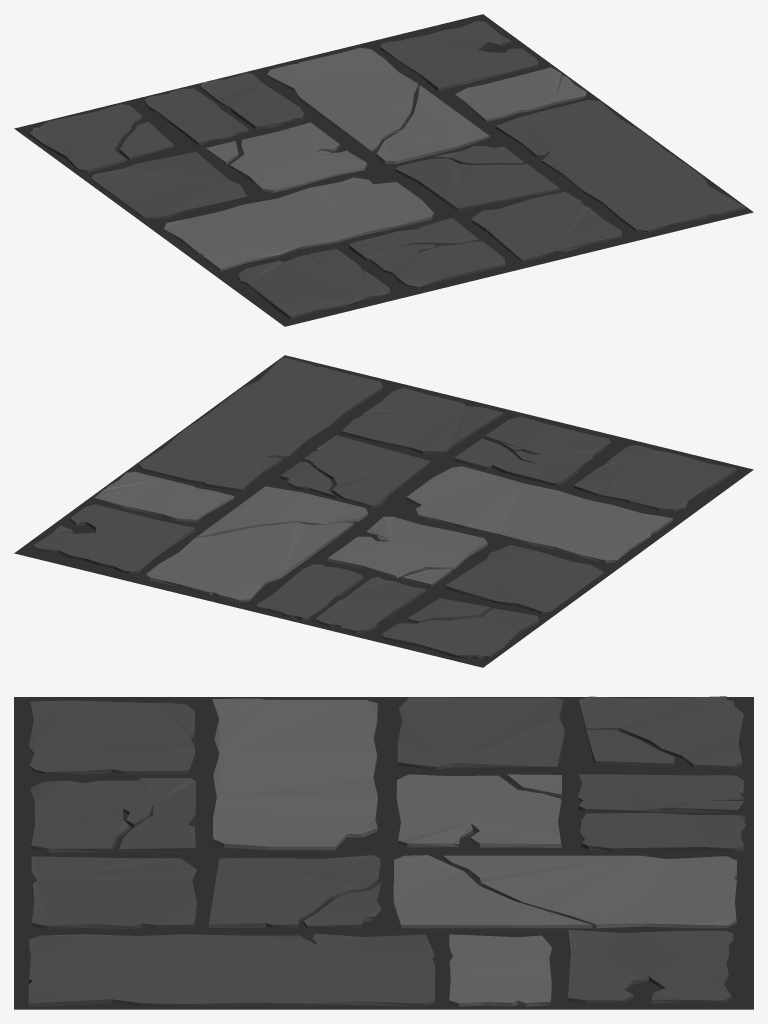
File: FloorSquare_01.glb
3 renders of one model, top to bottom at view 1: azimuth 30°, elevation 25°; view 2: azimuth 150°, elevation 25°; view 3: azimuth 270°, elevation 25°, orthographic. The views are drawn at different scales.
Visible parts, largest first — view 1: FloorSquare_01; view 2: FloorSquare_01; view 3: FloorSquare_01.
Part boxes in pixels (x1,y1,x2,y2): FloorSquare_01: [14, 14, 753, 326]; FloorSquare_01: [14, 355, 753, 667]; FloorSquare_01: [14, 696, 753, 1009].
Size of what is drawn, in the model's own units: 4 by 0.0288 by 4.
1 material, 1 textured.
